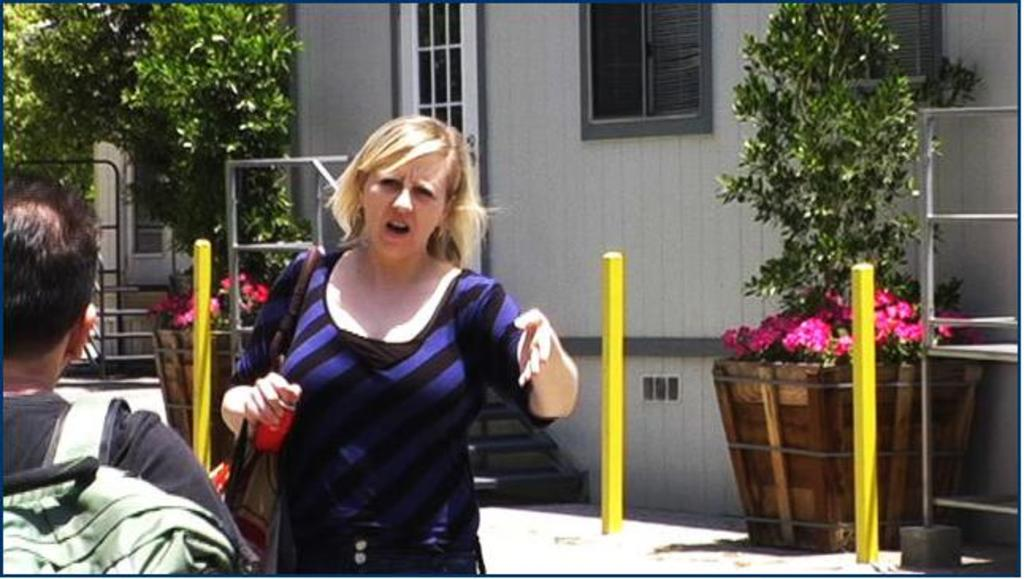Tree: (0, 0, 694, 245), (740, 6, 939, 531)
